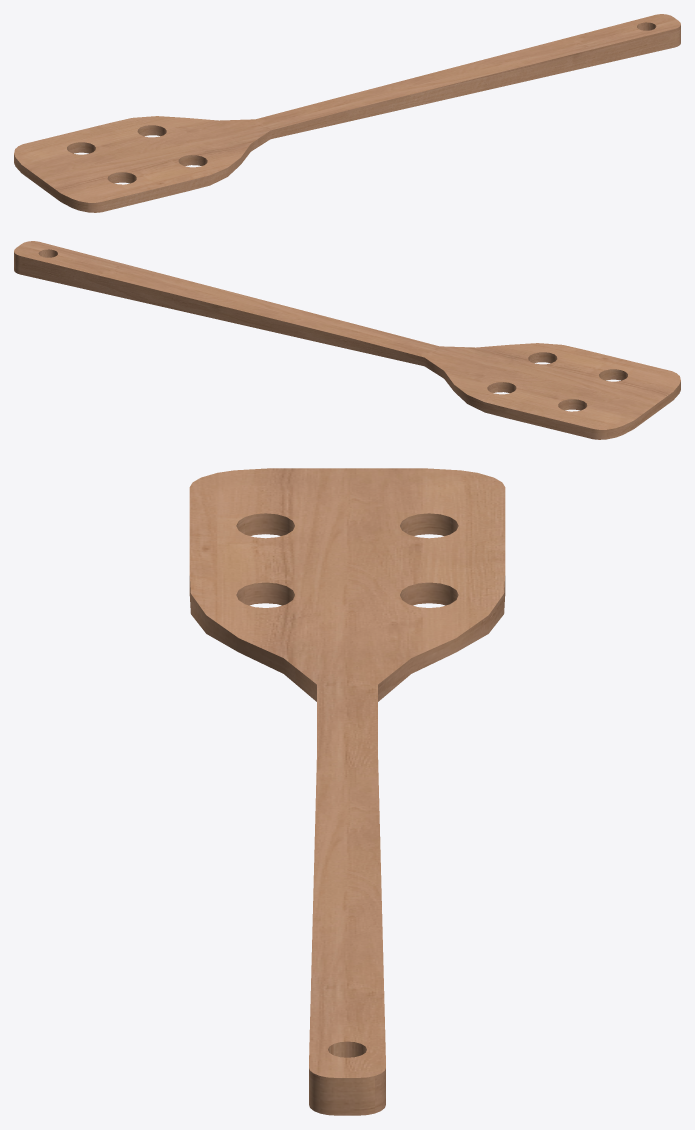
The model's file is wooden_ladle.obj.
3 views of the same model, one above another, from view 1: azimuth 30°, elevation 25°; view 2: azimuth 150°, elevation 25°; view 3: azimuth 270°, elevation 25° (orthographic). The views are drawn at different scales.
Parts seen in each view (by area): view 1: wooden_ladle; view 2: wooden_ladle; view 3: wooden_ladle.
Boxes of the visible parts, x1,y1,x2,y2 form: wooden_ladle: [14, 14, 680, 212]; wooden_ladle: [14, 241, 680, 439]; wooden_ladle: [189, 468, 505, 1115].
Bounding box in the file's own units: 0.2242 × 0.00635 × 0.0483.
Materials: 1 (1 with a texture image).
